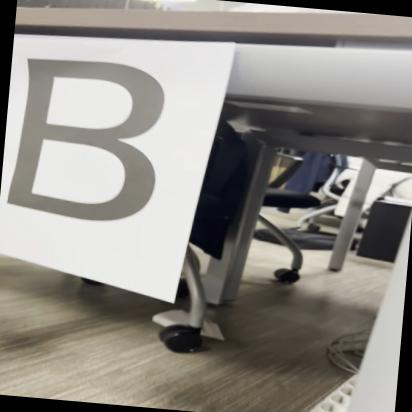seat: (1, 50, 172, 234)
